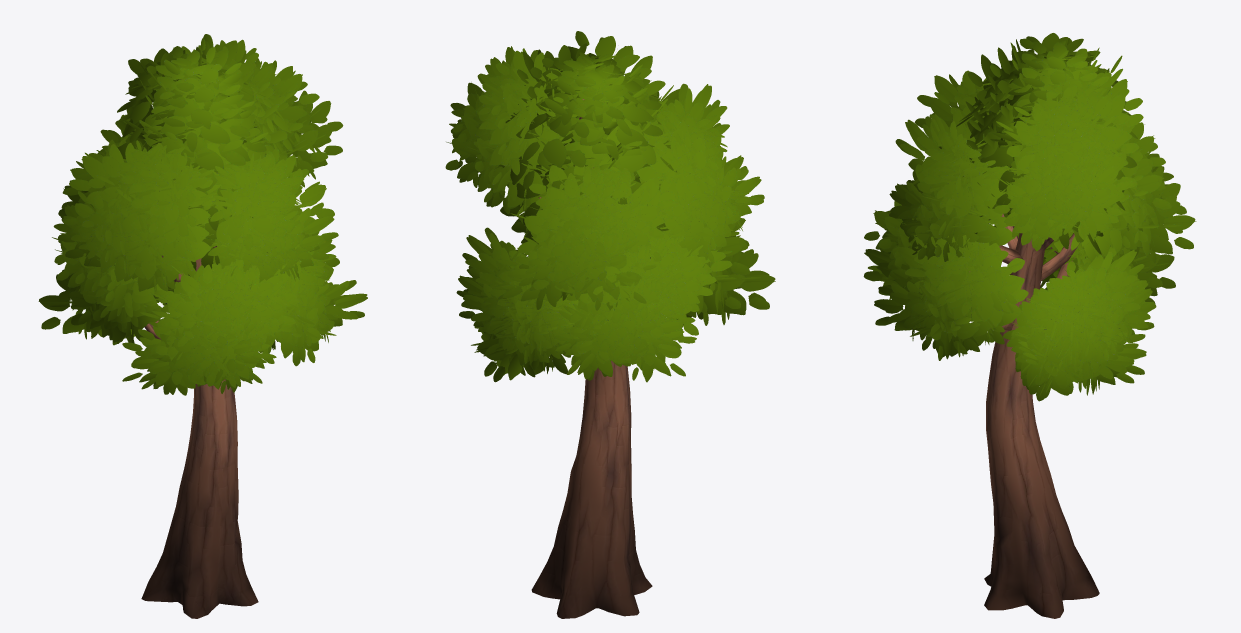
Rendered from commontree_1.glb.
The picture shows the model from 3 angles, left to right: view 1: azimuth 30°, elevation 25°; view 2: azimuth 150°, elevation 25°; view 3: azimuth 270°, elevation 25°; orthographic projection. The views are drawn at different scales.
Parts seen in each view (by area): view 1: CommonTree_1; view 2: CommonTree_1; view 3: CommonTree_1.
Part boxes in pixels (left/top/right/bottom): CommonTree_1: left=38, top=34, right=367, bottom=618; CommonTree_1: left=445, top=31, right=775, bottom=618; CommonTree_1: left=863, top=33, right=1196, bottom=618.
Size of the model in its own units: 4.31 by 7.26 by 4.58.
Materials: 2 (2 with a texture image).
